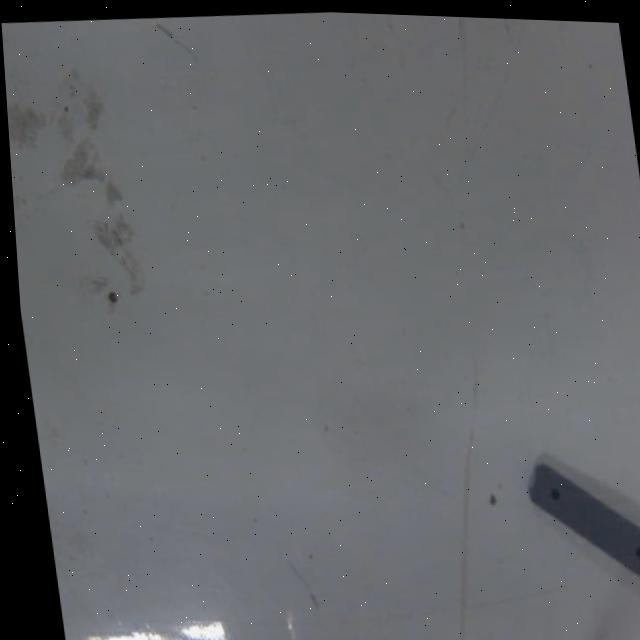grey: (522, 451, 640, 591)
head: (546, 484, 561, 502)
